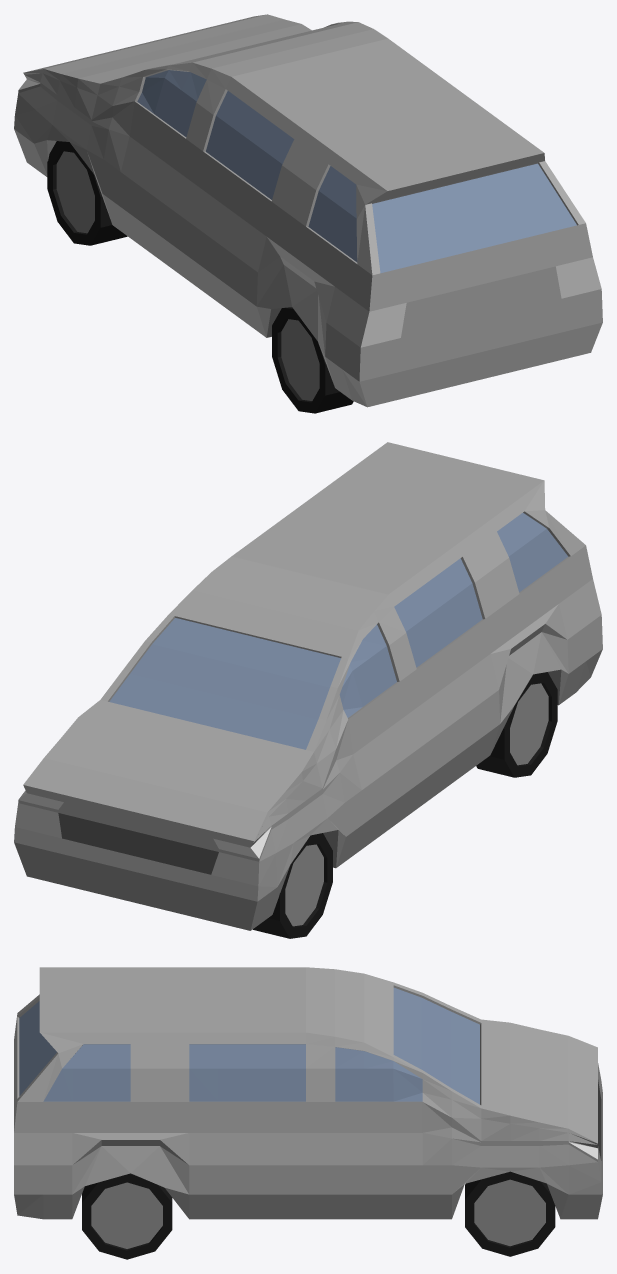
Rendered from Minivan.fbx.
3 views of the same model, one above another, from view 1: azimuth 30°, elevation 25°; view 2: azimuth 150°, elevation 25°; view 3: azimuth 270°, elevation 25° (orthographic). The views are drawn at different scales.
Visible parts, largest first — view 1: Minivan2; view 2: Minivan2; view 3: Minivan2.
Part boxes in pixels (x1,y1,x2,y2): Minivan2: (14, 14, 602, 413); Minivan2: (14, 442, 602, 938); Minivan2: (14, 967, 602, 1259).
Size of the model in its own units: 5.83 by 5.69 by 14.34.
